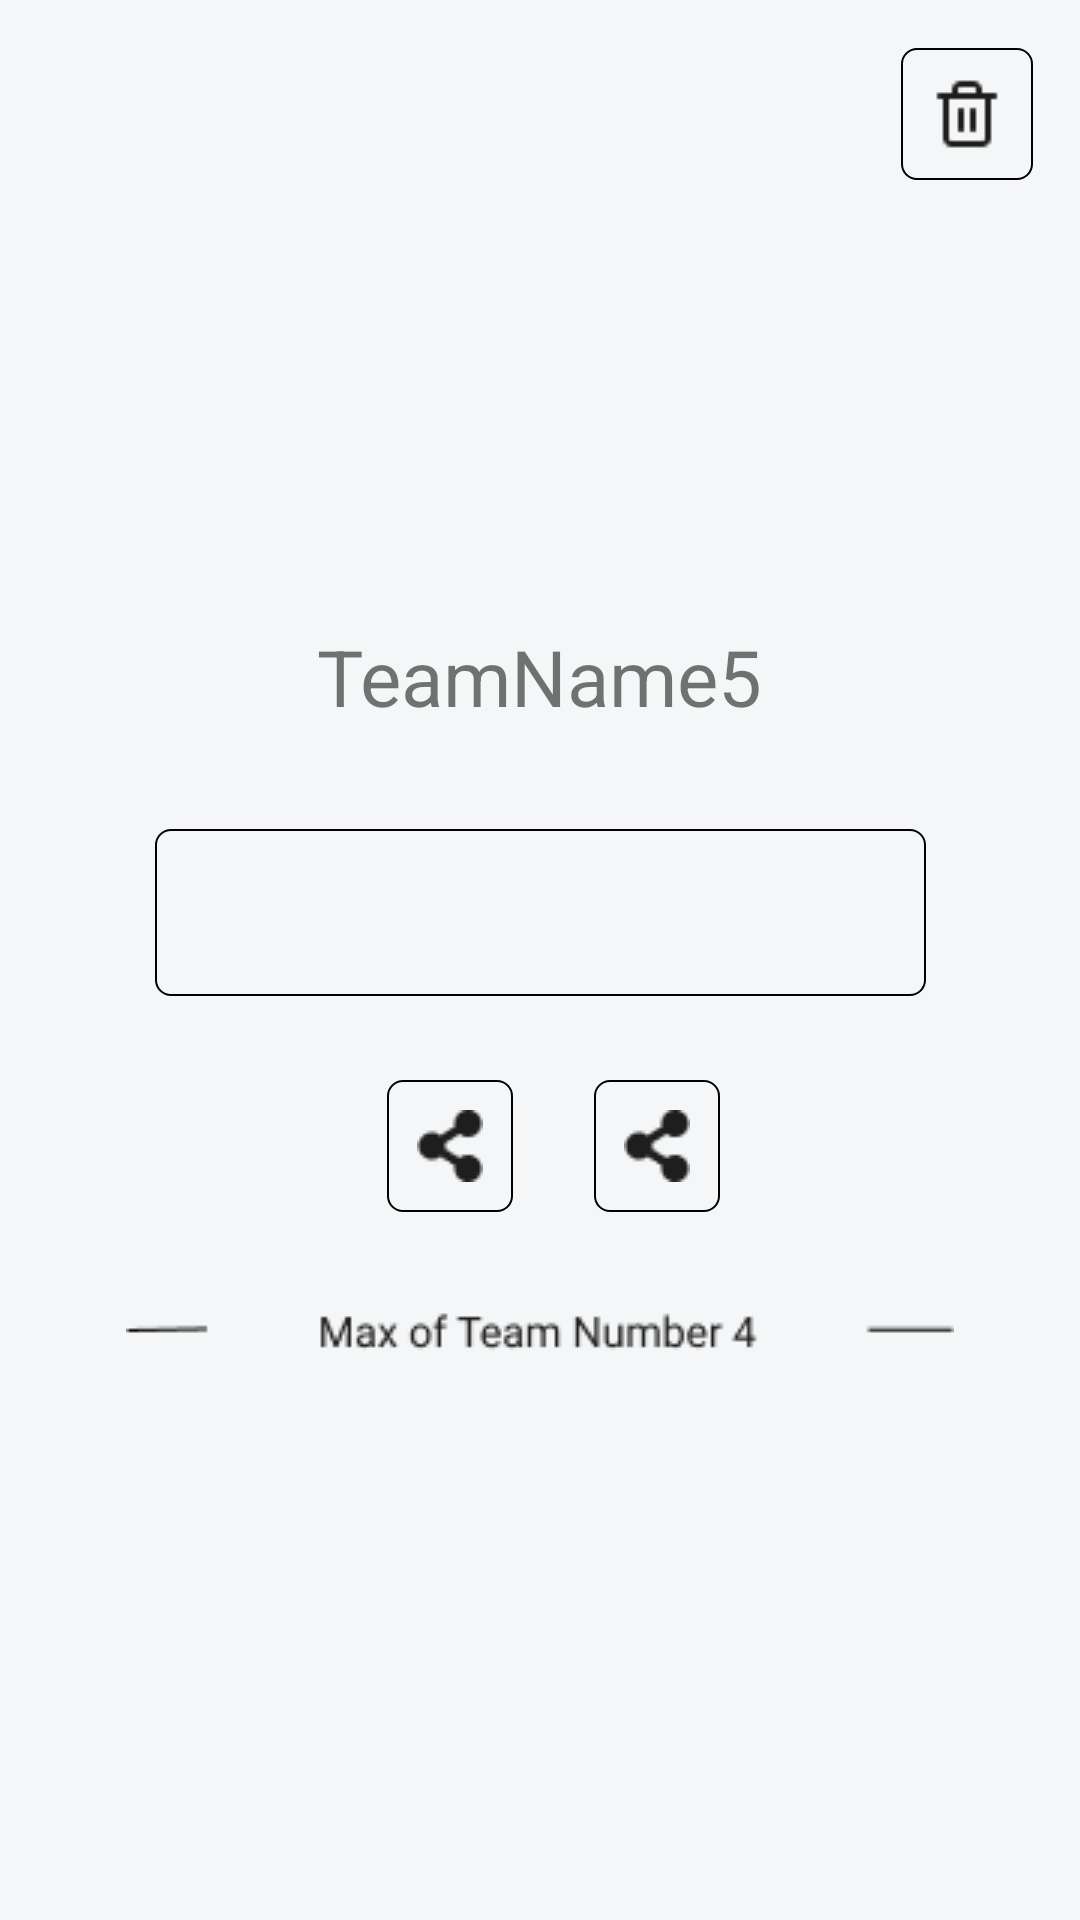

Screen size 1080px x 1920px. Icon name, then its center in pixels as [x,y]:
share: [450,1146], [657,1146]
trash: [967,114]
